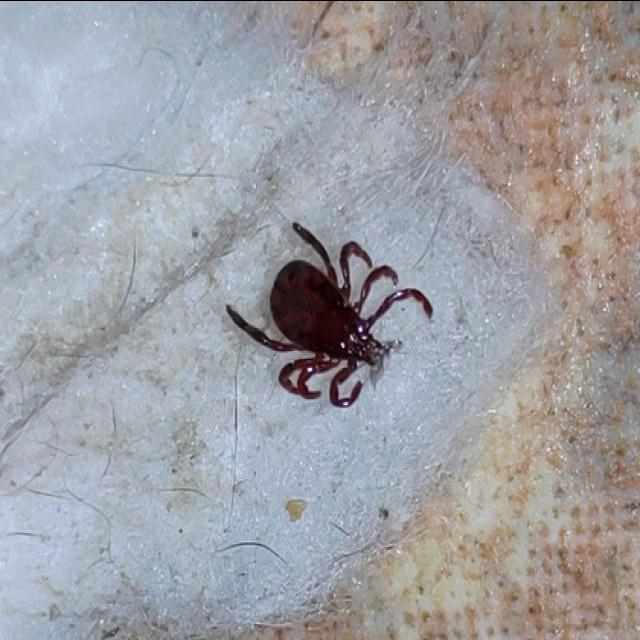Rhipicephalus Sanguineus-M: (227, 221, 434, 409)
